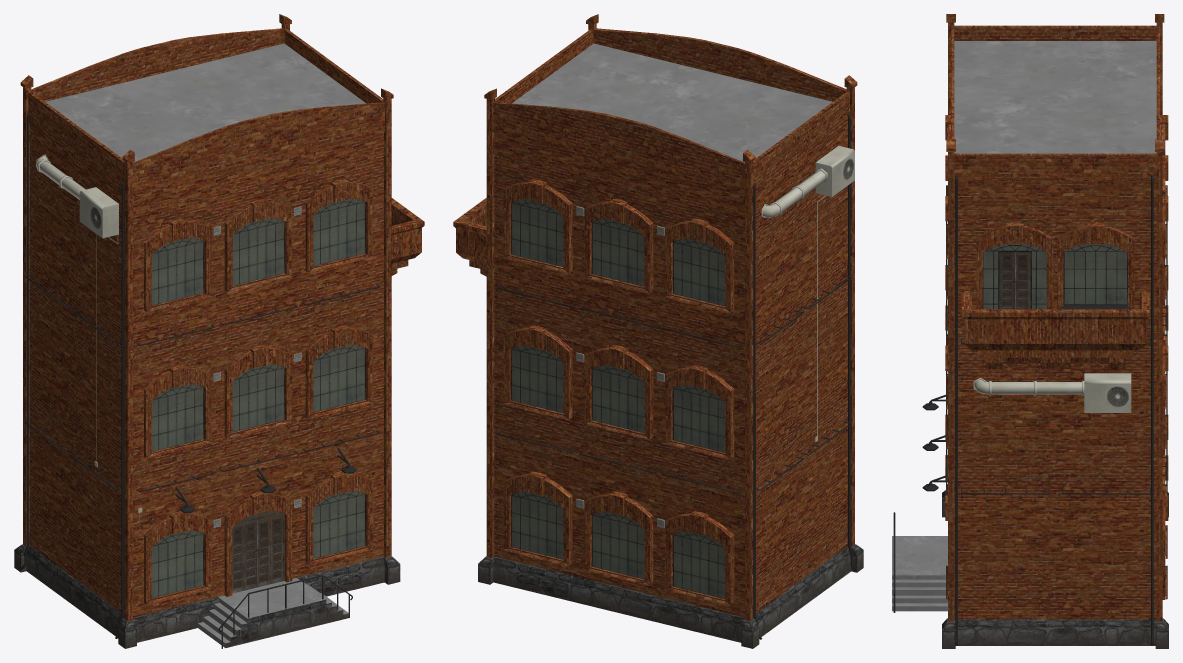
The model's file is brick.glb.
3 renders of one model, left to right at view 1: azimuth 30°, elevation 25°; view 2: azimuth 150°, elevation 25°; view 3: azimuth 270°, elevation 25°, orthographic. The views are drawn at different scales.
Visible parts, largest first — view 1: Apartment, Detail, Window, Frames, WallRailing, Foundation, Stairs, Door, AirCond, Cube; view 2: Apartment, Detail, Window, Frames, Foundation, WallRailing, AirCond, Cube; view 3: Apartment, Detail, Cube, Frames, Foundation, WallRailing, Stairs, Door.002, Window, AirCond.
Part boxes in pixels (x1,y1,x2,y2): Apartment: (30, 123, 383, 617); Detail: (20, 14, 393, 620); Window: (151, 198, 365, 597); Frames: (144, 179, 373, 604); WallRailing: (20, 113, 380, 648); Foundation: (14, 544, 400, 648); Stairs: (198, 578, 349, 648); Door: (232, 510, 284, 593); AirCond: (36, 154, 118, 238); Cube: (391, 198, 424, 275); Apartment: (494, 123, 847, 617); Detail: (484, 14, 857, 621); Window: (511, 199, 724, 598); Frames: (502, 179, 734, 605); Foundation: (478, 544, 863, 648); WallRailing: (496, 113, 856, 639); AirCond: (761, 145, 854, 217); Cube: (453, 198, 486, 276); Apartment: (954, 185, 1156, 619); Detail: (946, 14, 1164, 621); Cube: (961, 291, 1149, 368); Frames: (945, 115, 1168, 599); Foundation: (942, 490, 1168, 648); WallRailing: (893, 175, 1167, 645); Stairs: (892, 536, 947, 611); Door.002: (983, 243, 1046, 309); Window: (1063, 243, 1127, 304); AirCond: (973, 373, 1131, 412).
Size of the model in its own units: 685 by 1023 by 507.
9 materials, 8 textured.
